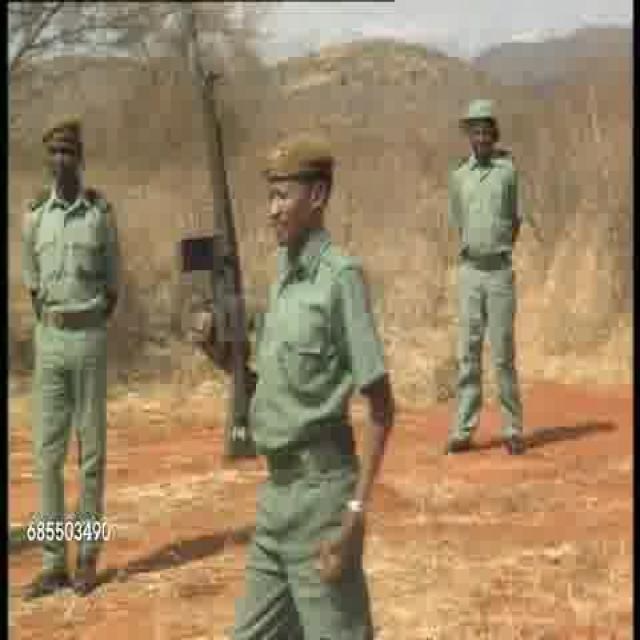poacher: (245, 108, 392, 633), (15, 85, 120, 610), (432, 89, 556, 468)
weapon: (178, 56, 254, 454)
